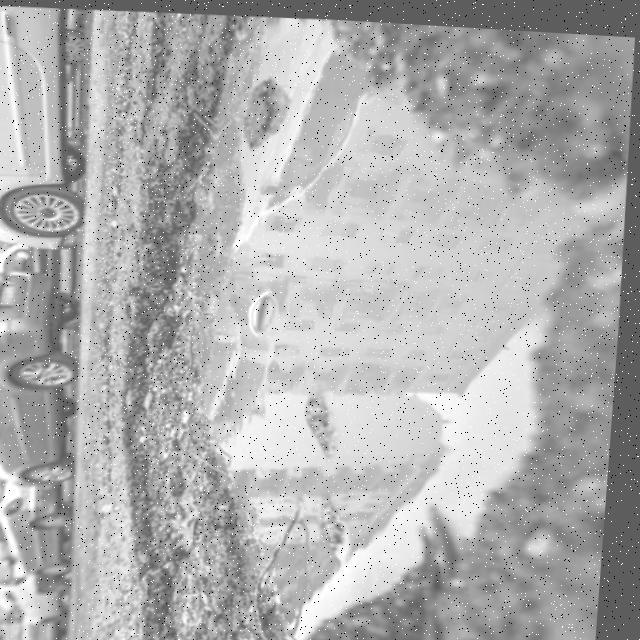pothole: (108, 7, 621, 640)
